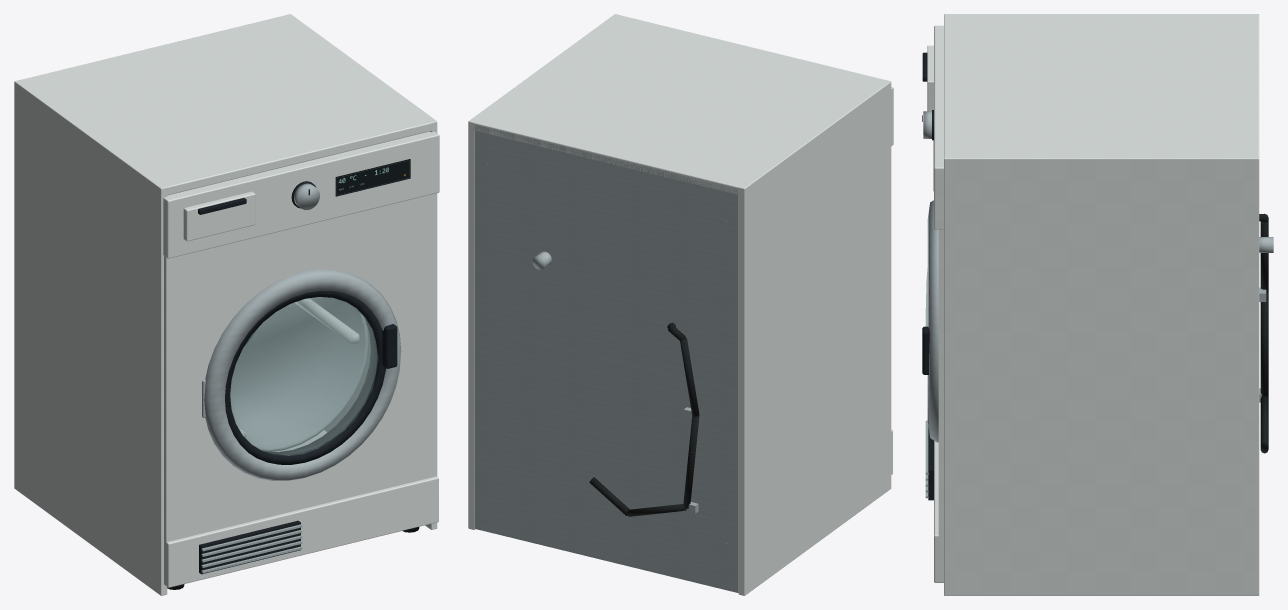
Rendered from tumble-dryer.glb.
The picture shows the model from 3 angles, left to right: view 1: azimuth 30°, elevation 25°; view 2: azimuth 150°, elevation 25°; view 3: azimuth 270°, elevation 25°; orthographic projection. The views are drawn at different scales.
Visible parts, largest first — view 1: Left folded cabinet panel, Circular-aperture front facade, Folded top lid, Finite convex door glass, Finite stainless drum cylinder, Upper control fascia, Profiled polished door rim, Lower service plinth, Inner glazing retaining lip, Detergent drawer face, Lint filter service vent dark recess, Generic laundry programme display (+4 smaller); view 2: Rear service enclosure, Left folded cabinet panel, Folded top lid, Right folded cabinet panel, Rear retained drain hose.002, Rear retained drain hose.001; view 3: Right folded cabinet panel, Folded top lid, Profiled polished door rim, Upper control fascia, Circular-aperture front facade, Left folded cabinet panel, Rear retained drain hose.002, Lower service plinth, Rear retained drain hose.001, Detergent drawer face.
Boxes of the visible parts, left/top/right/bottom form: Left folded cabinet panel: left=14, top=80, right=167, bottom=595; Circular-aperture front facade: left=164, top=193, right=437, bottom=558; Folded top lid: left=21, top=14, right=435, bottom=195; Finite convex door glass: left=230, top=297, right=378, bottom=455; Finite stainless drum cylinder: left=230, top=297, right=368, bottom=451; Upper control fascia: left=163, top=131, right=439, bottom=258; Profiled polished door rim: left=204, top=269, right=401, bottom=480; Lower service plinth: left=164, top=476, right=438, bottom=587; Inner glazing retaining lip: left=225, top=290, right=385, bottom=464; Detergent drawer face: left=183, top=191, right=255, bottom=241; Lint filter service vent dark recess: left=199, top=520, right=300, bottom=574; Generic laundry programme display: left=335, top=159, right=410, bottom=196; Rear service enclosure: left=474, top=125, right=738, bottom=592; Left folded cabinet panel: left=738, top=80, right=891, bottom=595; Folded top lid: left=470, top=14, right=884, bottom=195; Right folded cabinet panel: left=468, top=14, right=620, bottom=529; Rear retained drain hose.002: left=683, top=416, right=699, bottom=508; Rear retained drain hose.001: left=680, top=338, right=699, bottom=416; Right folded cabinet panel: left=944, top=155, right=1259, bottom=595; Folded top lid: left=944, top=15, right=1259, bottom=157; Profiled polished door rim: left=927, top=200, right=938, bottom=442; Upper control fascia: left=934, top=25, right=943, bottom=229; Circular-aperture front facade: left=938, top=229, right=943, bottom=553; Left folded cabinet panel: left=944, top=14, right=1259, bottom=16; Rear retained drain hose.002: left=1260, top=292, right=1268, bottom=396; Lower service plinth: left=934, top=441, right=943, bottom=582; Rear retained drain hose.001: left=1260, top=220, right=1268, bottom=293; Detergent drawer face: left=927, top=45, right=933, bottom=111.
Size of the model in its own units: 0.598 by 0.842 by 0.613.
6 materials, 6 textured.
